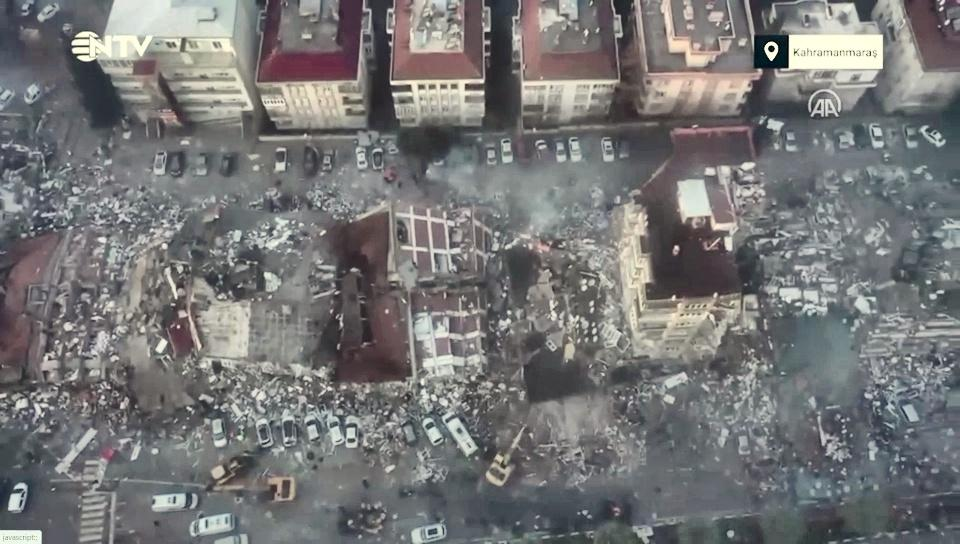kapali: (705, 357, 959, 517)
